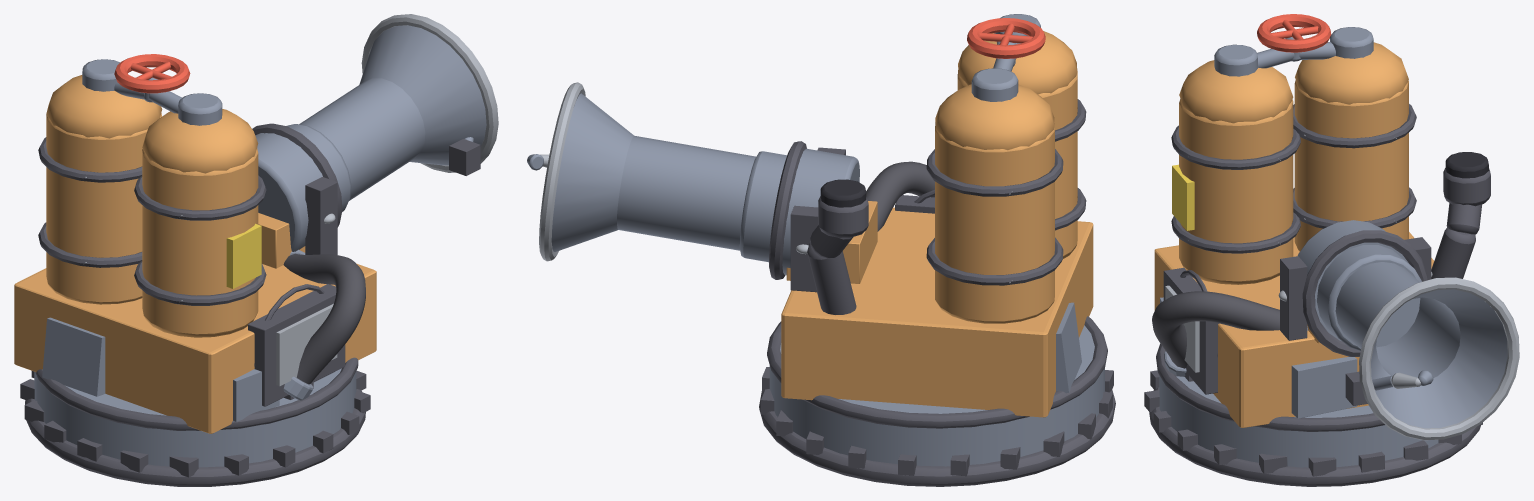
File: tower_flame_turret.glb
3 views of the same model, side by side, from view 1: azimuth 30°, elevation 25°; view 2: azimuth 150°, elevation 25°; view 3: azimuth 270°, elevation 25° (orthographic). The views are drawn at different scales.
Parts seen in each view (by area): view 1: T_FHousing, T_FTank0, T_FTank1, T_FTurntable, T_FBell, T_FBarrel, T_FTurnRing, T_FTankDome0, T_FHose, T_FTankDome1, T_FMantlet, T_FTurnRingTop (+18 smaller); view 2: T_FHousing, T_FTank1, T_FTurntable, T_FBarrel, T_FBell, T_FTurnRing, T_FTankDome1, T_FTurnRingTop, T_FTankDome0, T_FTank0, T_FCollar, T_FMantlet (+14 smaller); view 3: T_FTank0, T_FTank1, T_FHousing, T_FBell, T_FTurntable, T_FBarrel, T_FBellLip, T_FTurnRing, T_FTankDome0, T_FTankDome1, T_FHose, T_FCollar (+27 smaller).
Boxes of the visible parts, x1,y1,x2,y2 form: T_FHousing: (14,263,376,433); T_FTank0: (142,148,258,337); T_FTank1: (46,113,161,304); T_FTurntable: (34,368,356,467); T_FBell: (359,25,486,165); T_FBarrel: (299,78,425,200); T_FTurnRing: (25,389,365,486); T_FTankDome0: (142,109,258,173); T_FHose: (283,253,365,384); T_FTankDome1: (46,75,162,138); T_FMantlet: (255,133,322,251); T_FTurnRingTop: (35,357,358,430); T_FHousing: (781,207,1093,417); T_FTank1: (935,122,1054,323); T_FTurntable: (769,325,1104,466); T_FBarrel: (617,135,755,250); T_FBell: (551,93,633,252); T_FTurnRing: (759,389,1115,486); T_FTankDome1: (935,84,1054,150); T_FTurnRingTop: (767,316,1107,428); T_FTankDome0: (958,31,1077,94); T_FTank0: (957,70,1077,258); T_FCollar: (739,151,786,262); T_FMantlet: (782,148,859,275); T_FTank0: (1179,99,1293,284); T_FTank1: (1294,80,1408,251); T_FHousing: (1154,232,1434,427); T_FBell: (1371,289,1507,428); T_FTurntable: (1159,375,1438,467); T_FBarrel: (1335,262,1460,377); T_FBellLip: (1359,277,1519,440); T_FTurnRing: (1149,387,1480,486); T_FTankDome0: (1179,60,1293,123); T_FTankDome1: (1295,42,1408,104); T_FHose: (1152,291,1279,368); T_FCollar: (1317,245,1421,350).
Bounding box in the file's own units: 2.52 × 1.84 × 1.71.
